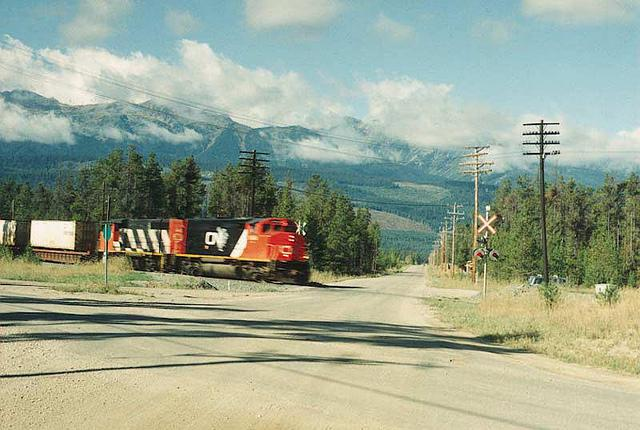Train: (1, 218, 313, 286)
